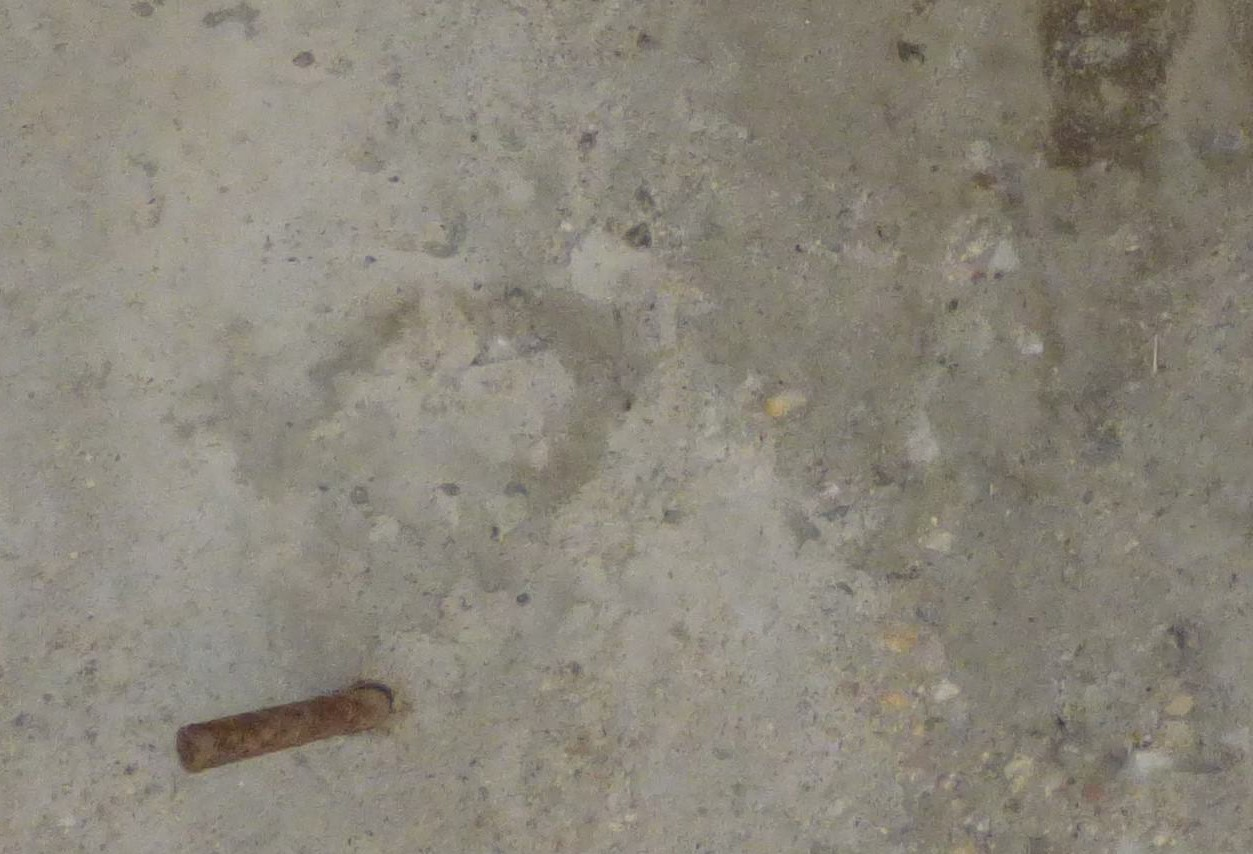Exposed reinforcement: (175, 688, 390, 775)
